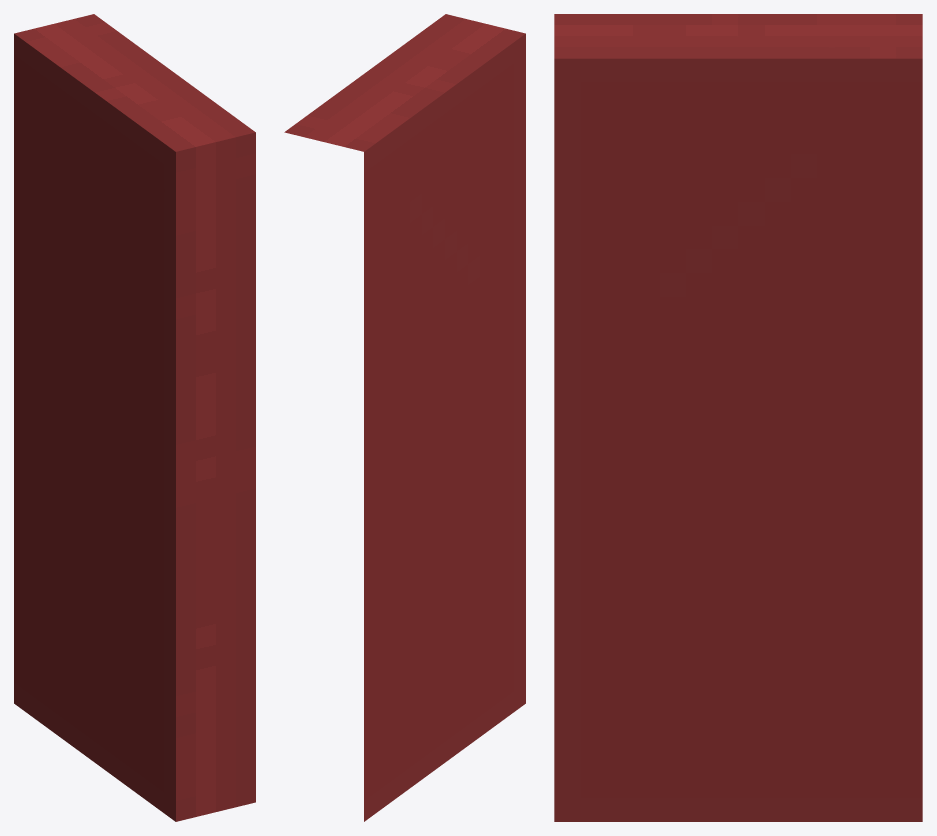
The model's file is block_red_stained_glass_pane_side_alt.gltf.
3 views of the same model, side by side, from view 1: azimuth 30°, elevation 25°; view 2: azimuth 150°, elevation 25°; view 3: azimuth 270°, elevation 25° (orthographic). The views are drawn at different scales.
Visible parts, largest first — view 1: cube; view 2: cube; view 3: cube.
Part boxes in pixels (left/top/right/bottom): cube: left=14, top=14, right=255, bottom=821; cube: left=284, top=14, right=525, bottom=821; cube: left=554, top=14, right=922, bottom=821.
Bounding box in the file's own units: 0.125 × 1 × 0.4375.
2 materials, 2 textured.
